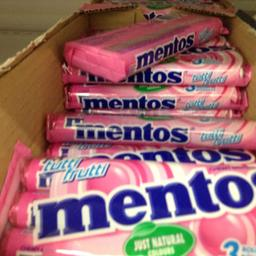candy: (2, 154, 255, 254), (40, 64, 248, 150), (70, 9, 218, 72)
